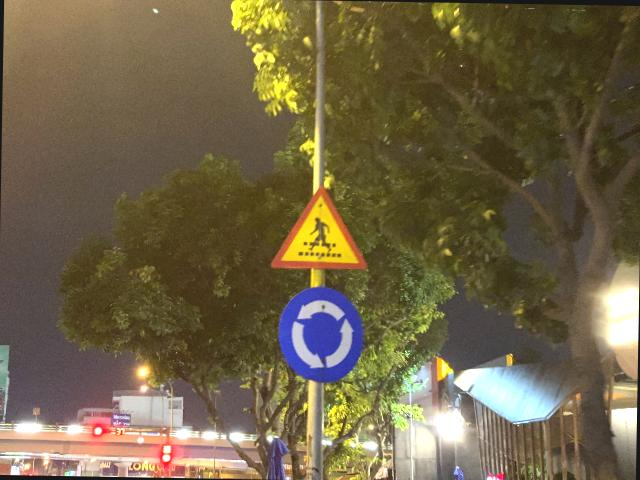duong-nguoi-di-bo-cat-ngang: (270, 184, 370, 270)
noi-giao-nhau-chay-theo-vong-xuyen: (276, 284, 366, 384)
